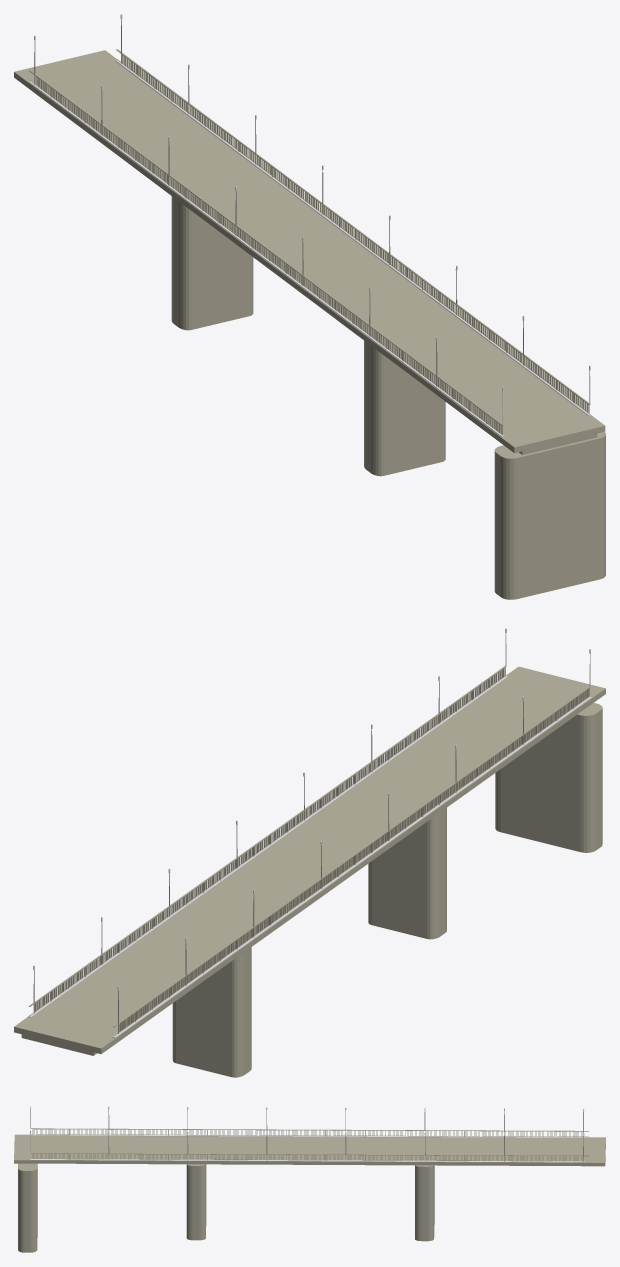
Rendered from Fussgaenger_Bruecke.fbx.
The picture shows the model from 3 angles, top to bottom: view 1: azimuth 30°, elevation 25°; view 2: azimuth 150°, elevation 25°; view 3: azimuth 270°, elevation 25°; orthographic projection. The views are drawn at different scales.
Visible parts, largest first — view 1: Cube.8826, Cube.8829, Cube.143, Cube.8827, Cube.8830, Cube.8832, Cube.8831, Cube.8833; view 2: Cube.8826, Cube.8829, Cube.143, Cube.8827, Cube.8832, Cube.8830, Cube.8831, Cube.8833; view 3: Cube.8826, Cube.8830, Cube.8832, Cube.8829, Cube.143, Cube.8827, Cube.8833, Cube.8831.
Part boxes in pixels (x1,y1,x2,y2): Cube.8826: [14, 50, 605, 454]; Cube.8829: [494, 432, 605, 599]; Cube.143: [364, 340, 445, 476]; Cube.8827: [171, 196, 253, 330]; Cube.8830: [29, 70, 503, 434]; Cube.8832: [116, 49, 590, 413]; Cube.8831: [28, 81, 504, 436]; Cube.8833: [115, 60, 591, 415]; Cube.8826: [14, 666, 605, 1055]; Cube.8829: [495, 703, 602, 852]; Cube.143: [368, 808, 446, 939]; Cube.8827: [172, 947, 251, 1077]; Cube.8832: [29, 665, 506, 1015]; Cube.8830: [113, 686, 590, 1036]; Cube.8831: [112, 696, 591, 1037]; Cube.8833: [28, 676, 507, 1017]; Cube.8826: [14, 1134, 605, 1166]; Cube.8830: [31, 1128, 588, 1136]; Cube.8832: [30, 1153, 589, 1161]; Cube.8829: [18, 1163, 37, 1252]; Cube.143: [186, 1164, 206, 1240]; Cube.8827: [415, 1165, 434, 1241]; Cube.8833: [30, 1159, 589, 1162]; Cube.8831: [30, 1134, 589, 1138].
Bounding box in the file's own units: 1133 × 2132 × 9605.
